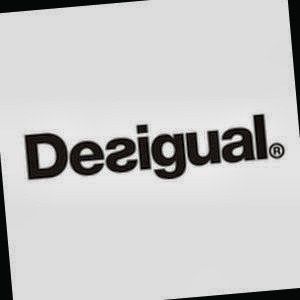desigual: (11, 66, 31, 198), (260, 55, 281, 165)
